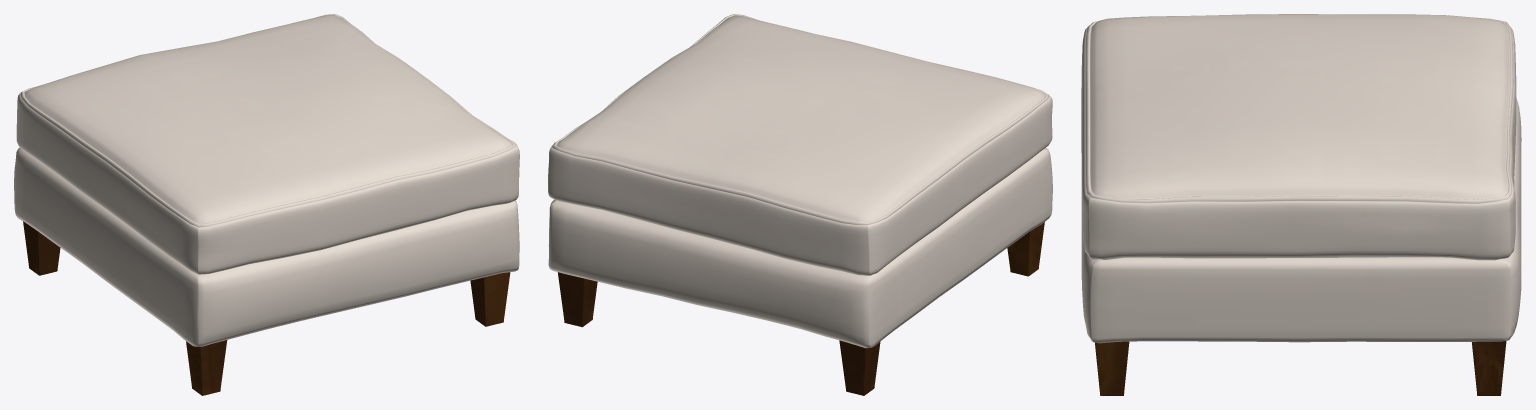
The model's file is abo-B07B4GSKS1.glb.
3 views of the same model, side by side, from view 1: azimuth 30°, elevation 25°; view 2: azimuth 150°, elevation 25°; view 3: azimuth 270°, elevation 25° (orthographic). The views are drawn at different scales.
Size of the model in its own units: 0.838 by 0.479 by 0.838.
Materials: 1 (1 with a texture image).
